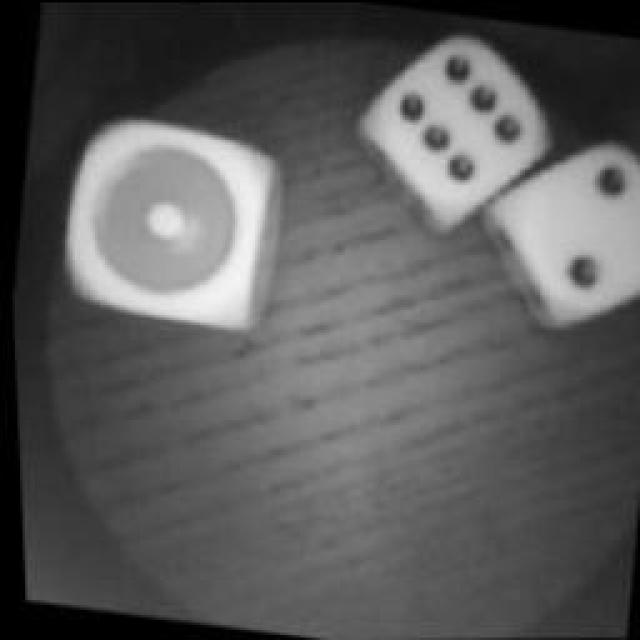dice_1: (41, 104, 291, 344)
dice_2: (472, 122, 640, 332)
dice_6: (342, 18, 556, 228)
